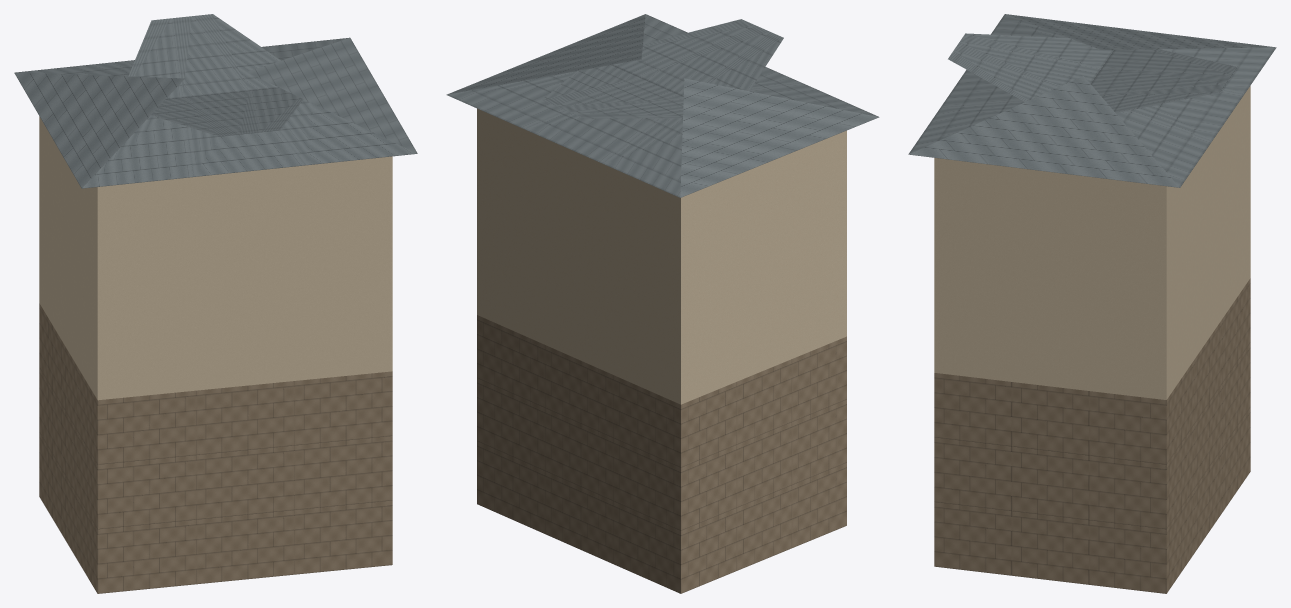
The model's file is bld_c10_9_509.gltf.
3 views of the same model, side by side, from view 1: azimuth 30°, elevation 25°; view 2: azimuth 150°, elevation 25°; view 3: azimuth 270°, elevation 25° (orthographic). The views are drawn at different scales.
Parts seen in each view (by area): view 1: bld_c10_9_509; view 2: bld_c10_9_509; view 3: bld_c10_9_509.
Boxes of the visible parts, x1,y1,x2,y2 form: bld_c10_9_509: (14, 14, 417, 593); bld_c10_9_509: (446, 14, 879, 593); bld_c10_9_509: (908, 14, 1276, 593).
Size of the model in its own units: 9.82 by 12 by 8.79.
Materials: 3 (3 with a texture image).
